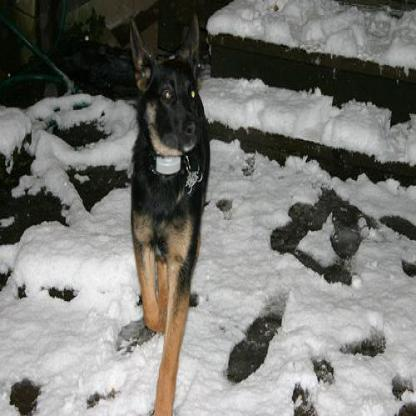German_shepherd: (129, 13, 210, 414)
